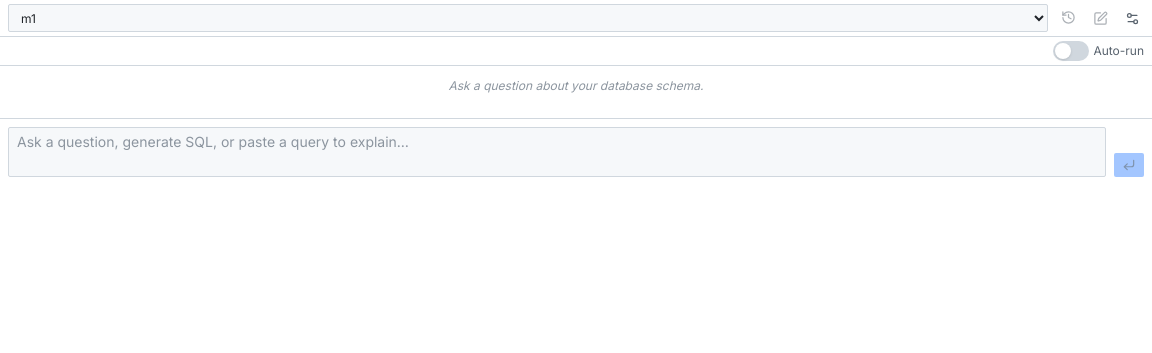
Test: ChatPanel — agentic read (Phase 31) › surfaces a refusal when the server rejects the statement (422) and does not feed back
The width and height of the screenshot is (1152, 353).
In the text box: (557, 152) [8,127,1106,177], type "how many users?"
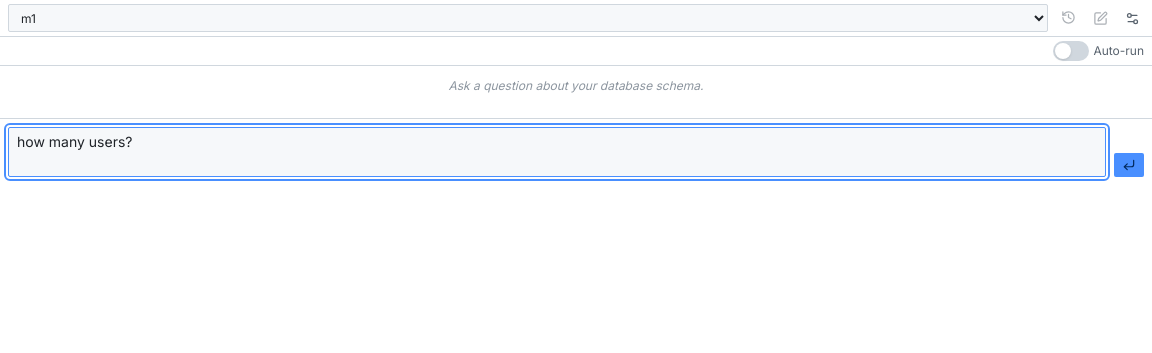
Click the button named "Send": (1129, 165) [1114,153,1144,177]
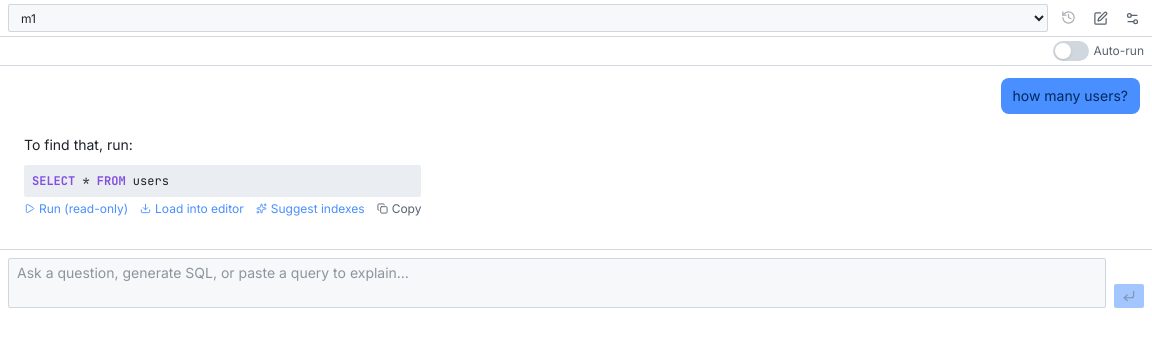
Click the button "Run (read-only)": (76, 209) [24,201,128,217]
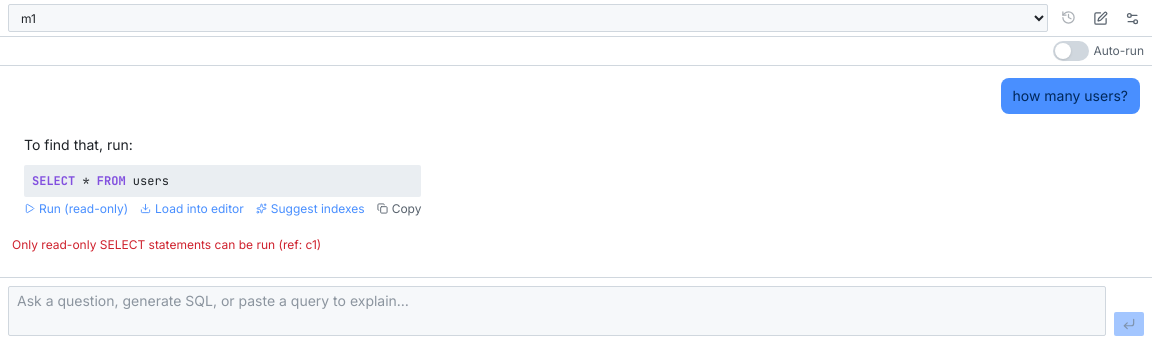
Result: the text "Only read-only SELECT statements can be run (ref: c1)" is shown at [12,237,321,252]
